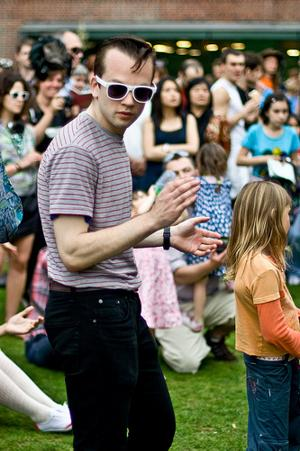person: (33, 37, 228, 451)
